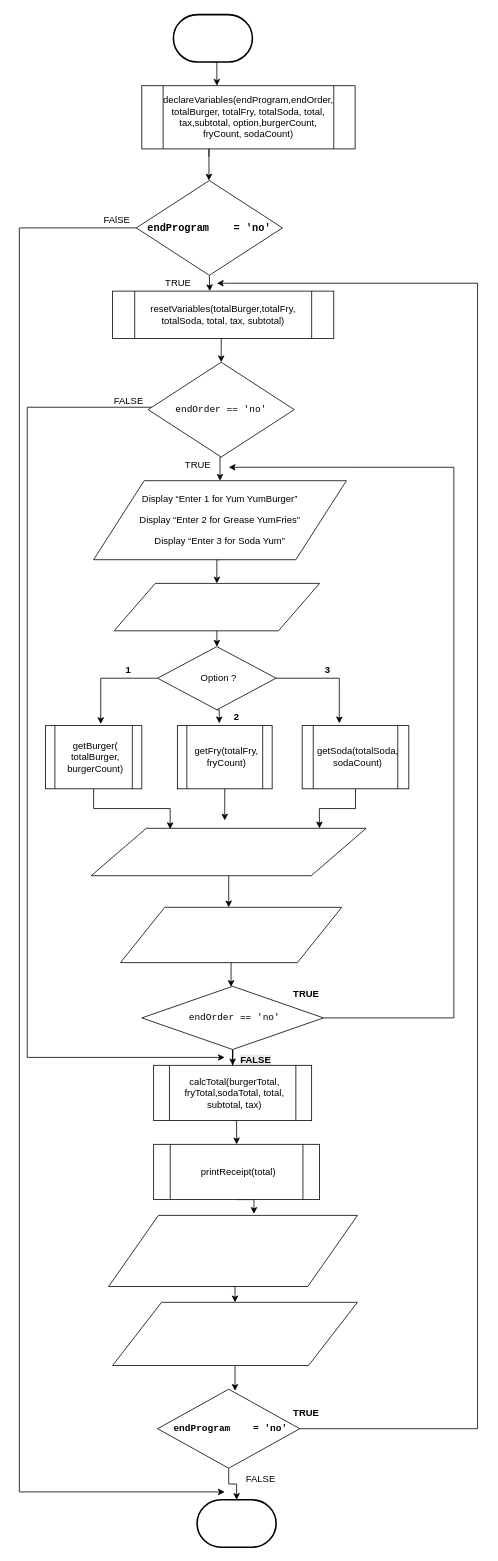
Some shapes in this 498 by 1561 pixel diagram are drawn without their labels. Each missing label, with the box of its shape:
Display“Do you want to end the program? (Enter no to process a new order)”: (108, 1215, 357, 1287)
Display“Do you want to end your order? (Enter no to add more items: )”: (90, 828, 366, 876)
END: (196, 1499, 276, 1548)
Input endOrder: (120, 907, 342, 963)
Input endProgram: (112, 1302, 357, 1366)
Input option: (113, 583, 320, 631)
Start: (172, 13, 253, 62)
